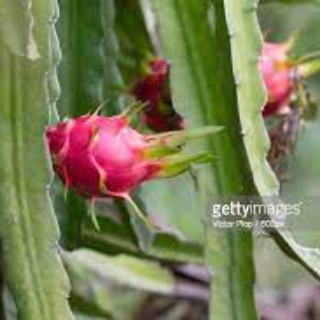thanh_long: (49, 112, 174, 198)
